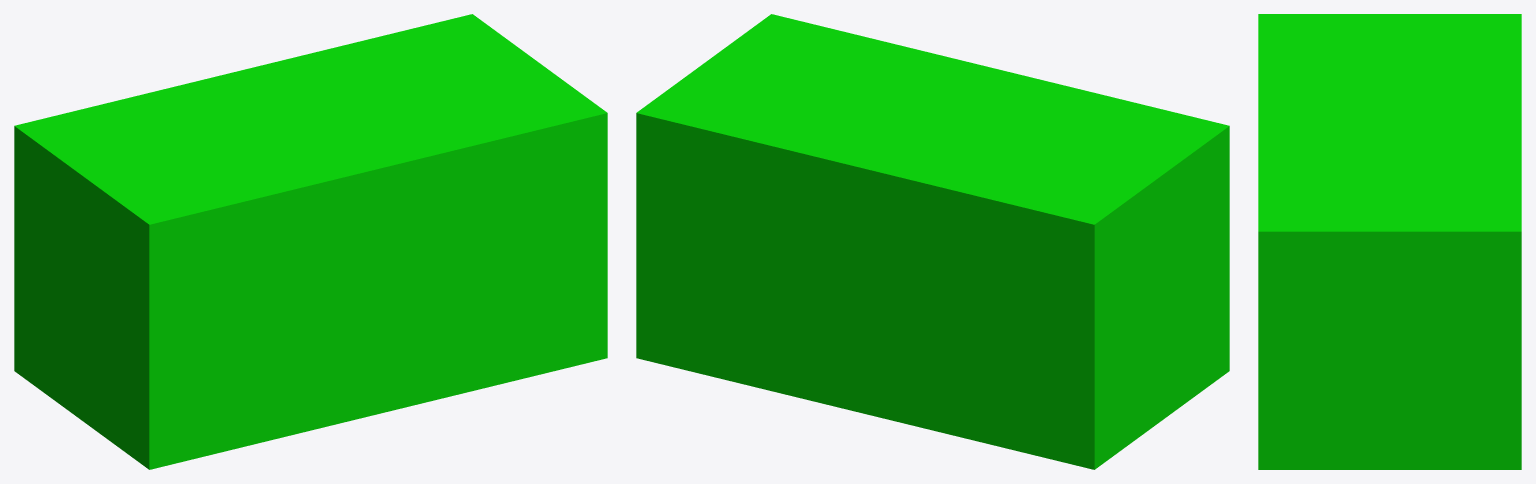
3 views of the same model, side by side, from view 1: azimuth 30°, elevation 25°; view 2: azimuth 150°, elevation 25°; view 3: azimuth 270°, elevation 25° (orthographic). The views are drawn at different scales.
Visible parts, largest first — view 1: SM_box_1; view 2: SM_box_1; view 3: SM_box_1.
Part boxes in pixels (box(x1,y1,x2,y2)): SM_box_1: box(14, 14, 607, 469); SM_box_1: box(636, 14, 1229, 469); SM_box_1: box(1258, 14, 1521, 469).
Size of the model in its own units: 59.42 by 30.37 by 30.37.
